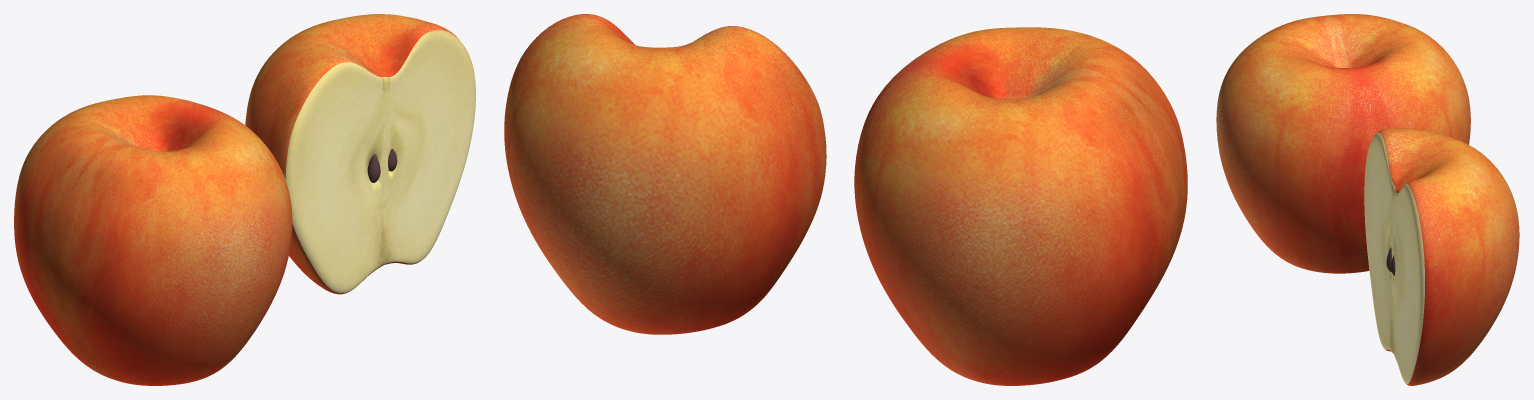
File: Apple.glb
The picture shows the model from 3 angles, left to right: view 1: azimuth 30°, elevation 25°; view 2: azimuth 150°, elevation 25°; view 3: azimuth 270°, elevation 25°; orthographic projection. The views are drawn at different scales.
Visible parts, largest first — view 1: APPLE.003, APPLE.002; view 2: APPLE.003, APPLE.002; view 3: APPLE.003, APPLE.002.
Boxes of the visible parts, x1,y1,x2,y2 form: APPLE.003: (14, 95, 292, 385); APPLE.002: (245, 14, 475, 294); APPLE.003: (854, 27, 1187, 385); APPLE.002: (504, 14, 826, 334); APPLE.003: (1216, 14, 1470, 273); APPLE.002: (1364, 128, 1519, 385).
Bounding box in the file's own units: 363 × 170 × 218.
Materials: 3 (2 with a texture image).
